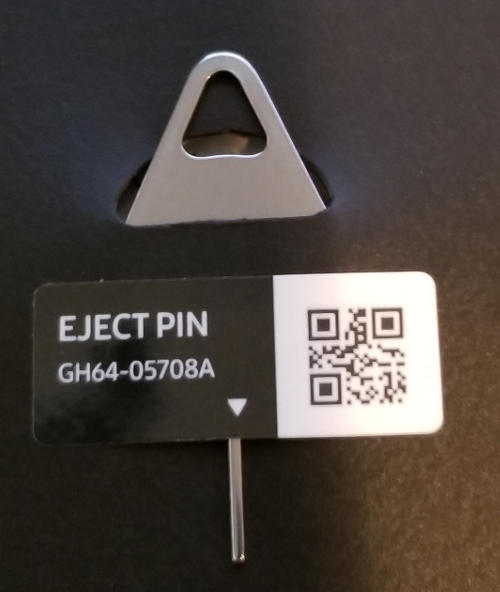QR_CODE: (292, 291, 416, 417)
